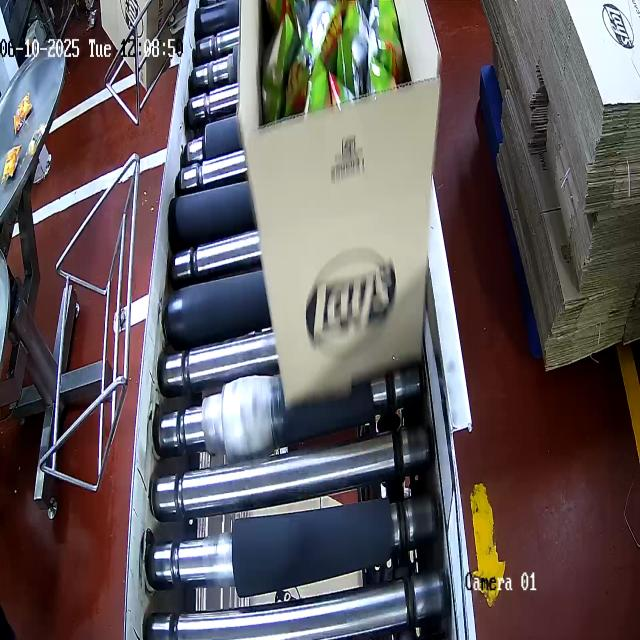YOGURT_HERB: (265, 1, 401, 127)
